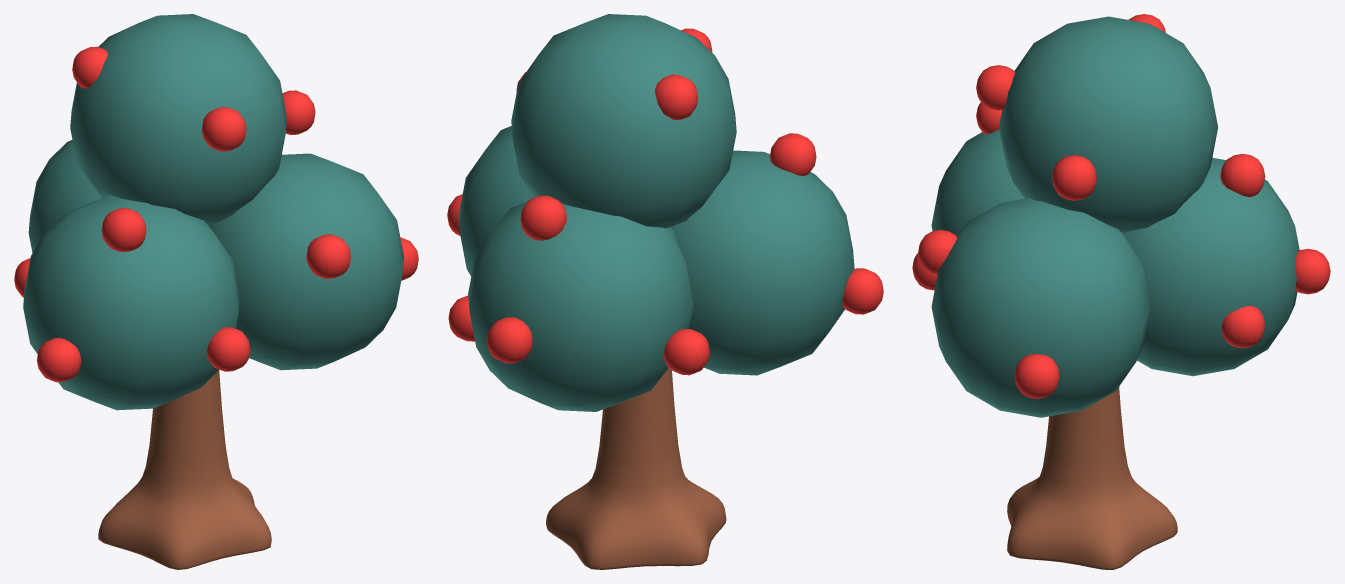
The model's file is tree10.fbx.
3 views of the same model, side by side, from view 1: azimuth 30°, elevation 25°; view 2: azimuth 150°, elevation 25°; view 3: azimuth 270°, elevation 25° (orthographic). The views are drawn at different scales.
Visible parts, largest first — view 1: tree9.001; view 2: tree9.001; view 3: tree9.001.
Boxes of the visible parts, x1,y1,x2,y2 form: tree9.001: [14, 14, 418, 569]; tree9.001: [447, 14, 883, 569]; tree9.001: [912, 14, 1330, 569].
Bounding box in the file's own units: 660 × 799 × 596.
